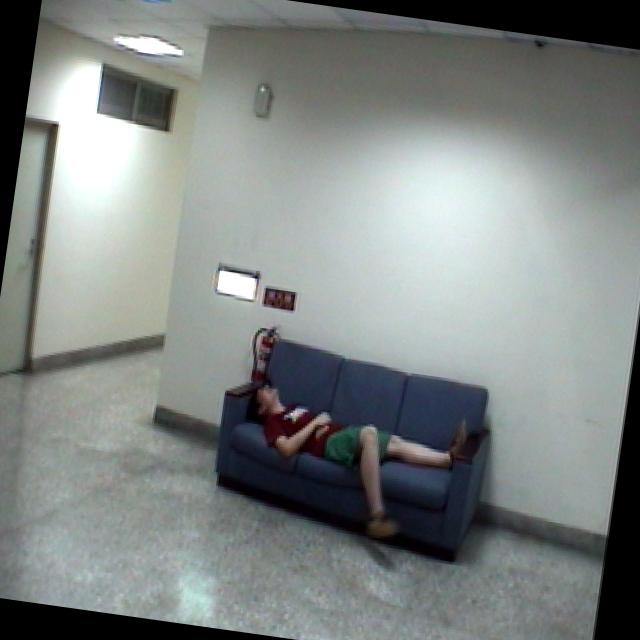lie: (233, 368, 482, 558)
